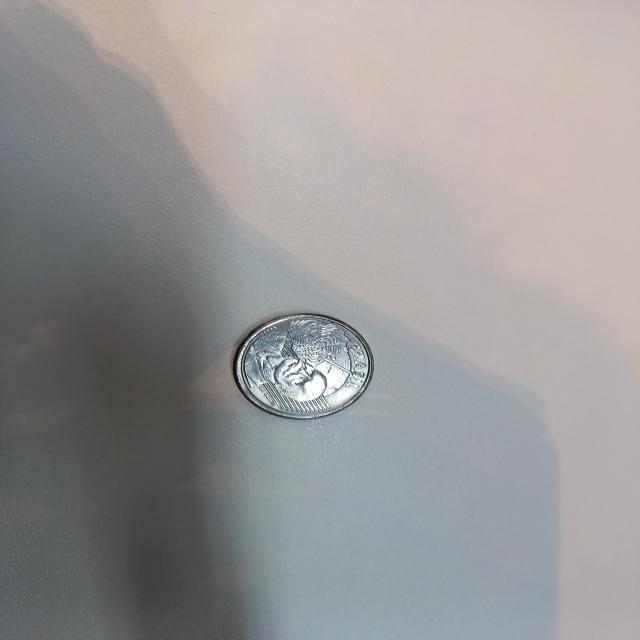50 cents: (227, 311, 380, 422)
